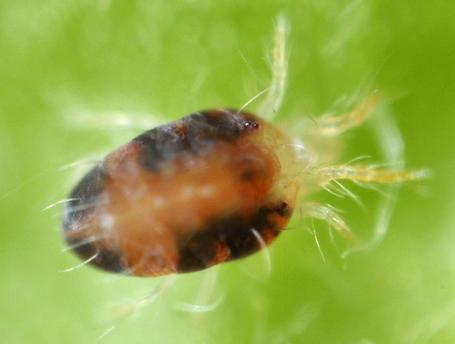Mites: (48, 44, 405, 308)
